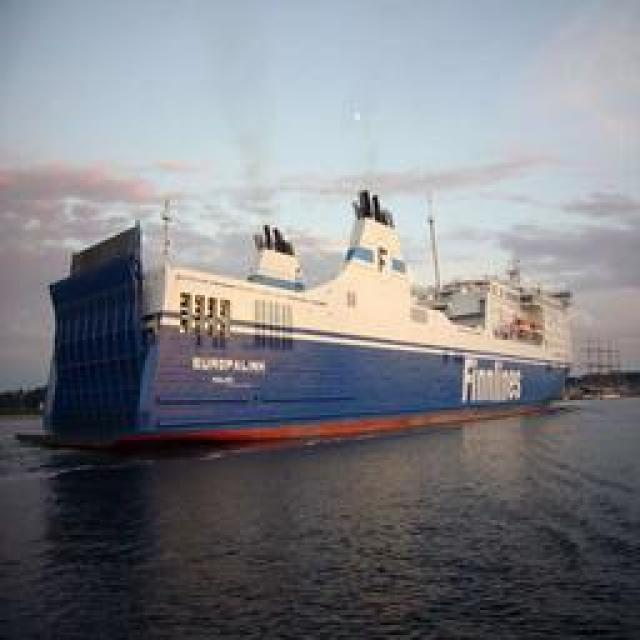CIV_Ship: (114, 195, 572, 443)
